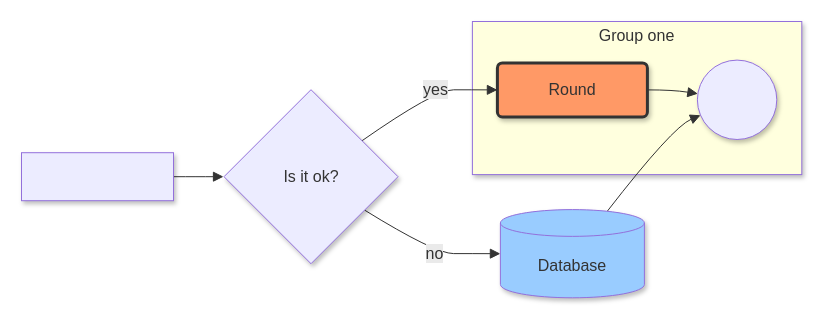
The diagram is 826 pixels wide and 323 high, and some of its shapes have lost their labels. Here are the shapes that lost their labels. From the top down, the centre of each, then its label:
point (737, 100): Circle
point (98, 178): Start
